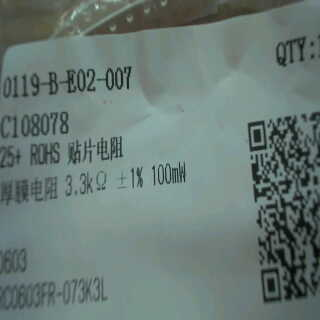3.3kO: (62, 166, 111, 199)
